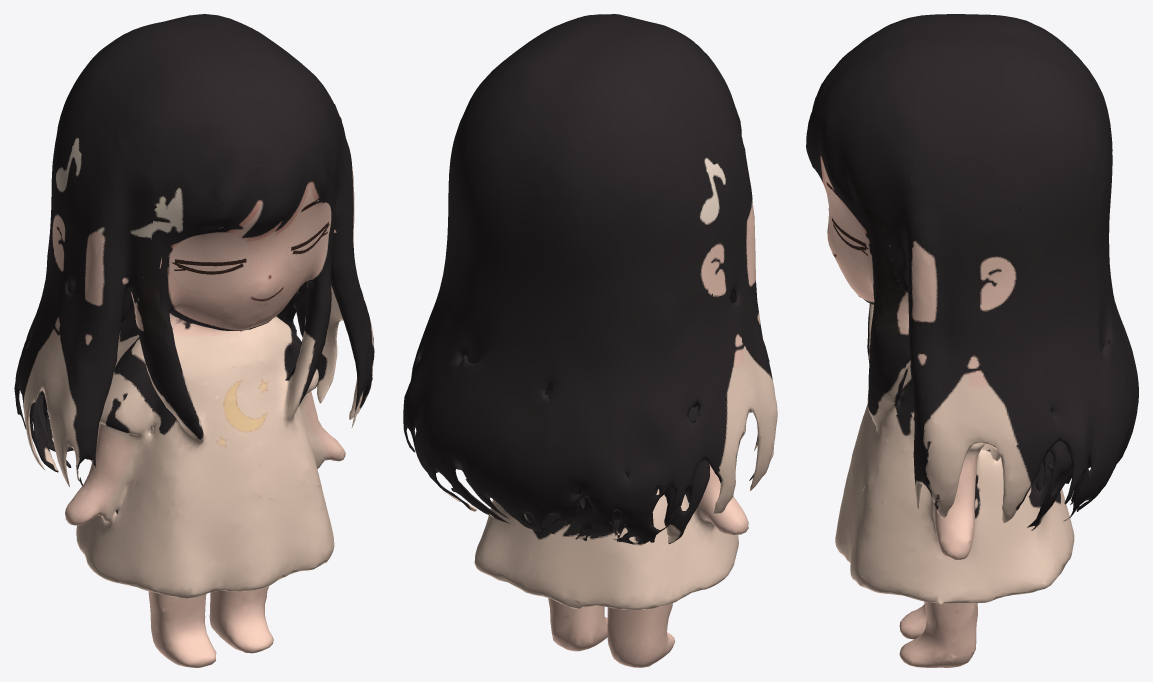
File: xiaoxiao.glb
The picture shows the model from 3 angles, left to right: view 1: azimuth 30°, elevation 25°; view 2: azimuth 150°, elevation 25°; view 3: azimuth 270°, elevation 25°; orthographic projection. The views are drawn at different scales.
Visible parts, largest first — view 1: body, lid_half, lid_closed; view 2: body; view 3: body, lid_half, lid_closed.
Part boxes in pixels (<box>): body: <box>14,14,374,667</box>; lid_half: <box>161,202,331,300</box>; lid_closed: <box>159,200,330,294</box>; body: <box>403,14,777,667</box>; body: <box>806,14,1138,667</box>; lid_half: <box>828,193,874,276</box>; lid_closed: <box>830,189,869,270</box>.
Bounding box in the file's own units: 0.6471 × 1.2 × 0.5831.
3 materials, 3 textured.
